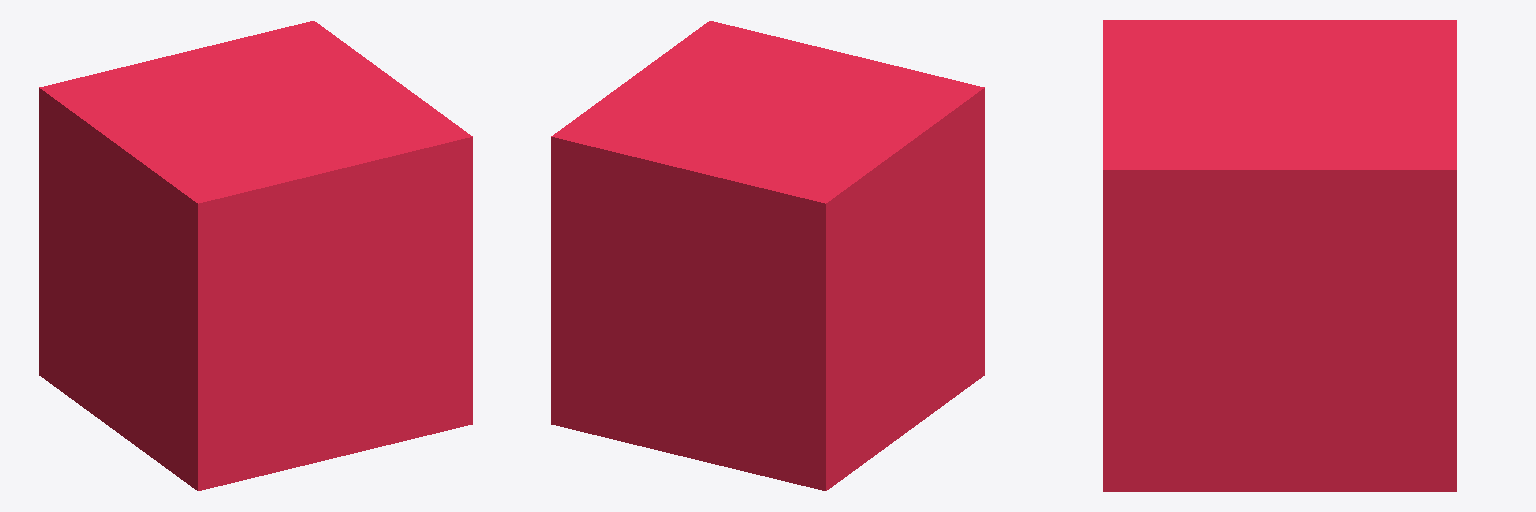
robot.urdf — PinkPanther:
<?xml version="1.0"?>
<robot name="PinkPanther">

	<material name="dark-pink">
		<color rgba="1 0.2313 0.3843 1"/>
	</material>

	<material name="light-pink">
		<color rgba="0.7725 0.5411 0.7725 1"/>
	</material>

	<link name="body">
		<visual>
			<origin xyz="-0.1 0.22 -0.1" rpy="0 0 0"/>
			<geometry>
				<mesh filename="../meshes/base.STL"/>			
			</geometry>
			<material name="light-pink"/>
		</visual>
		<collision>
			<origin xyz="0 0 0.05" rpy="0 1.57075 0"/>
			<geometry>
				<cylinder length="0.3" radius="0.05"/>
			</geometry>
		</collision>
		<inertial>
			<origin xyz="0 0 0.15"/>
			<mass value="0.95228"/>
      		<inertia ixx="0.00090835" ixy="-9.0768E-05" ixz="-2.3727E-07" iyy="0.0034187" iyz="-1.9167E-07" izz="0.0028288"/>
    	</inertial>-->
	</link>

	<link name="right_front_shoulder">
		<visual>
			<origin xyz="-0.018 0.02 0.025" rpy="1.57075 0 3.1416"/>
			<geometry>
				<box size="0.05 0.05 0.05"/>
			</geometry>
			<material name="dark-pink"/>
		</visual>
		<collision>
			<origin xyz="-0.02 0.03 0.025" rpy="1.57075 0 3.1416"/>
			<geometry>
				<box size="0.05 0.05 0.05"/>
			</geometry>
		</collision>
		<!--<collision>
			<origin xyz="-0.036 0.01 0.01" rpy="1.57075 0 3.1416"/>
			<geometry>
				<mesh filename="../meshes/rightShoulder.STL"/>
			</geometry>
		</collision>-->
		<inertial>
	      <origin xyz="0.030839 0.010759 -0.045563"/>
	      <mass value="0.0824"/>
	      <inertia ixx="1.9553E-05" ixy="2.0806E-07" ixz="-3.2173E-07" iyy="1.9066E-05" iyz="9.7295E-07" izz="2.1806E-05"/>
    	</inertial>
	</link>

	<joint name="right_front_armpit" type="revolute">
		<origin xyz="0.15 -0.01 0"/>
		<parent link="body"/>
		<child link="right_front_shoulder"/>
		<axis xyz="1 0 0"/>
		<limit lower="-0.38" upper="5" effort="1000.0" velocity="50"/>
	</joint>


</robot>

--- Render facts (derived) ---
Views: 3 orthographic renders of the robot side by side, from view 1: azimuth 30°, elevation 25°; view 2: azimuth 150°, elevation 25°; view 3: azimuth 270°, elevation 25°.
Robot: PinkPanther — 2 links, 1 joints (1 revolute); root link body; default pose: all joints at 0.
Links seen in each view (by area): view 1: right_front_shoulder; view 2: right_front_shoulder; view 3: right_front_shoulder.
Boxes of the visible links, box(x1,y1,x2,y2) form: right_front_shoulder: box(39, 21, 472, 490); right_front_shoulder: box(551, 21, 984, 490); right_front_shoulder: box(1103, 20, 1456, 491).
Size in the robot's own frame: 0.05 by 0.05 by 0.05 metres.
Meshes: 1 distinct files referenced, 0 mesh visuals loaded (none loaded); not drawn: 1 (reference not matched to a file when rendering).